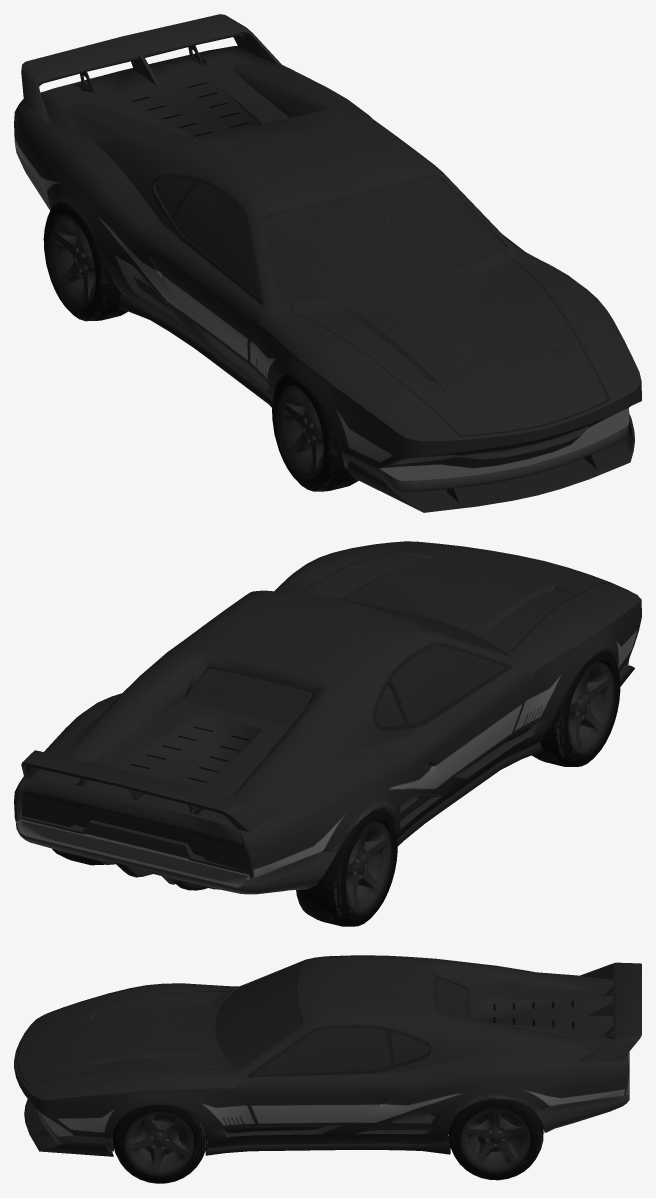
File: cybercar.obj
The picture shows the model from 3 angles, top to bottom: view 1: azimuth 30°, elevation 25°; view 2: azimuth 150°, elevation 25°; view 3: azimuth 270°, elevation 25°; orthographic projection. The views are drawn at different scales.
Parts seen in each view (by area): view 1: cb_car_export; view 2: cb_car_export; view 3: cb_car_export.
Part boxes in pixels (box(x1,y1,x2,y2)): cb_car_export: box(14, 14, 641, 512); cb_car_export: box(14, 541, 641, 926); cb_car_export: box(14, 955, 641, 1183).
Size of the model in its own units: 109 by 70 by 264.
